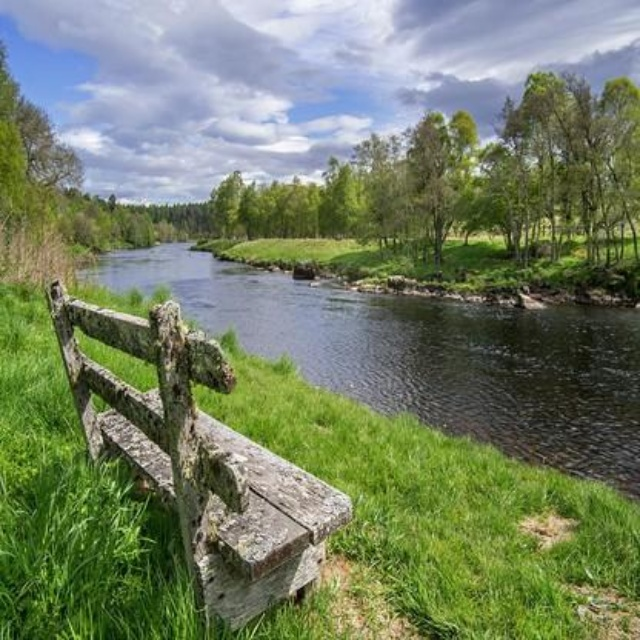obstacle: (28, 274, 372, 614)
